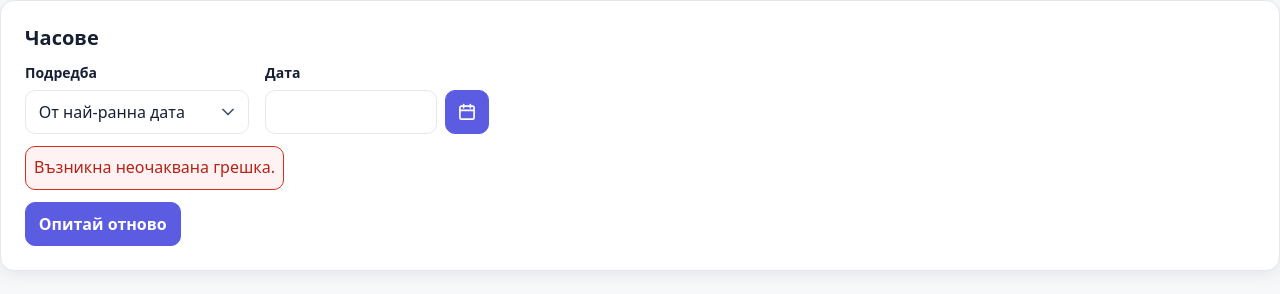
Scenario: Customer Appointment history › shows a safe failure with retry and hands an expired login to the application
The width and height of the screenshot is (1280, 294).
Check: the message reads "Възникна неочаквана грешка.", box [34,156,275,178]
Check: the message does not show "SQL", box [25,146,284,190]
Click the button "Опитай отново".
click(103, 224)  # box [25,202,180,246]
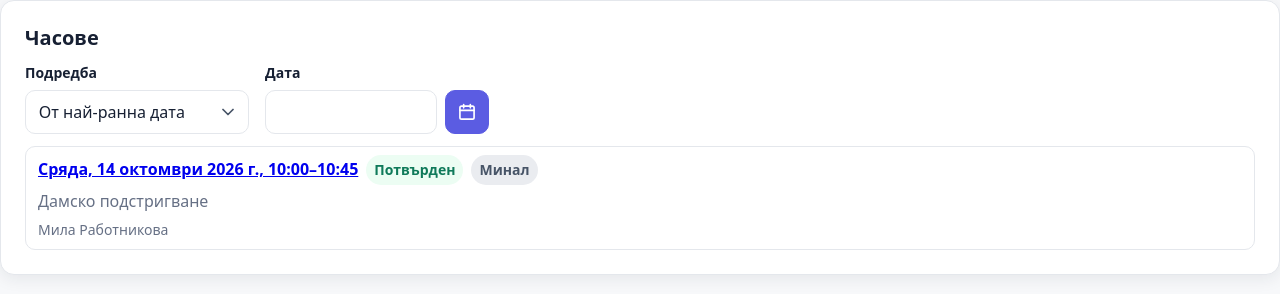
Check: the list is shown, box [25,146,1255,250]
